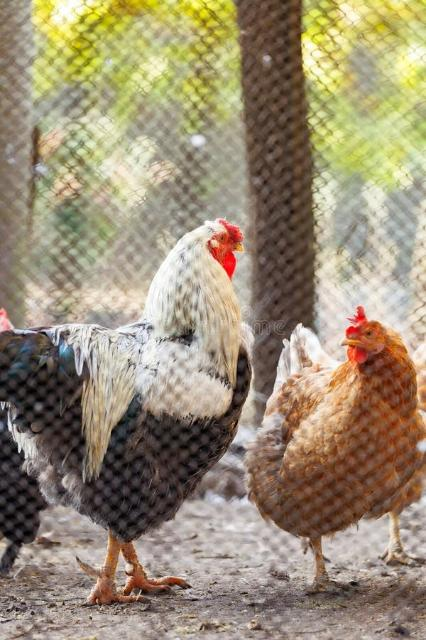Chicken: (0, 216, 252, 604), (247, 306, 426, 594)
